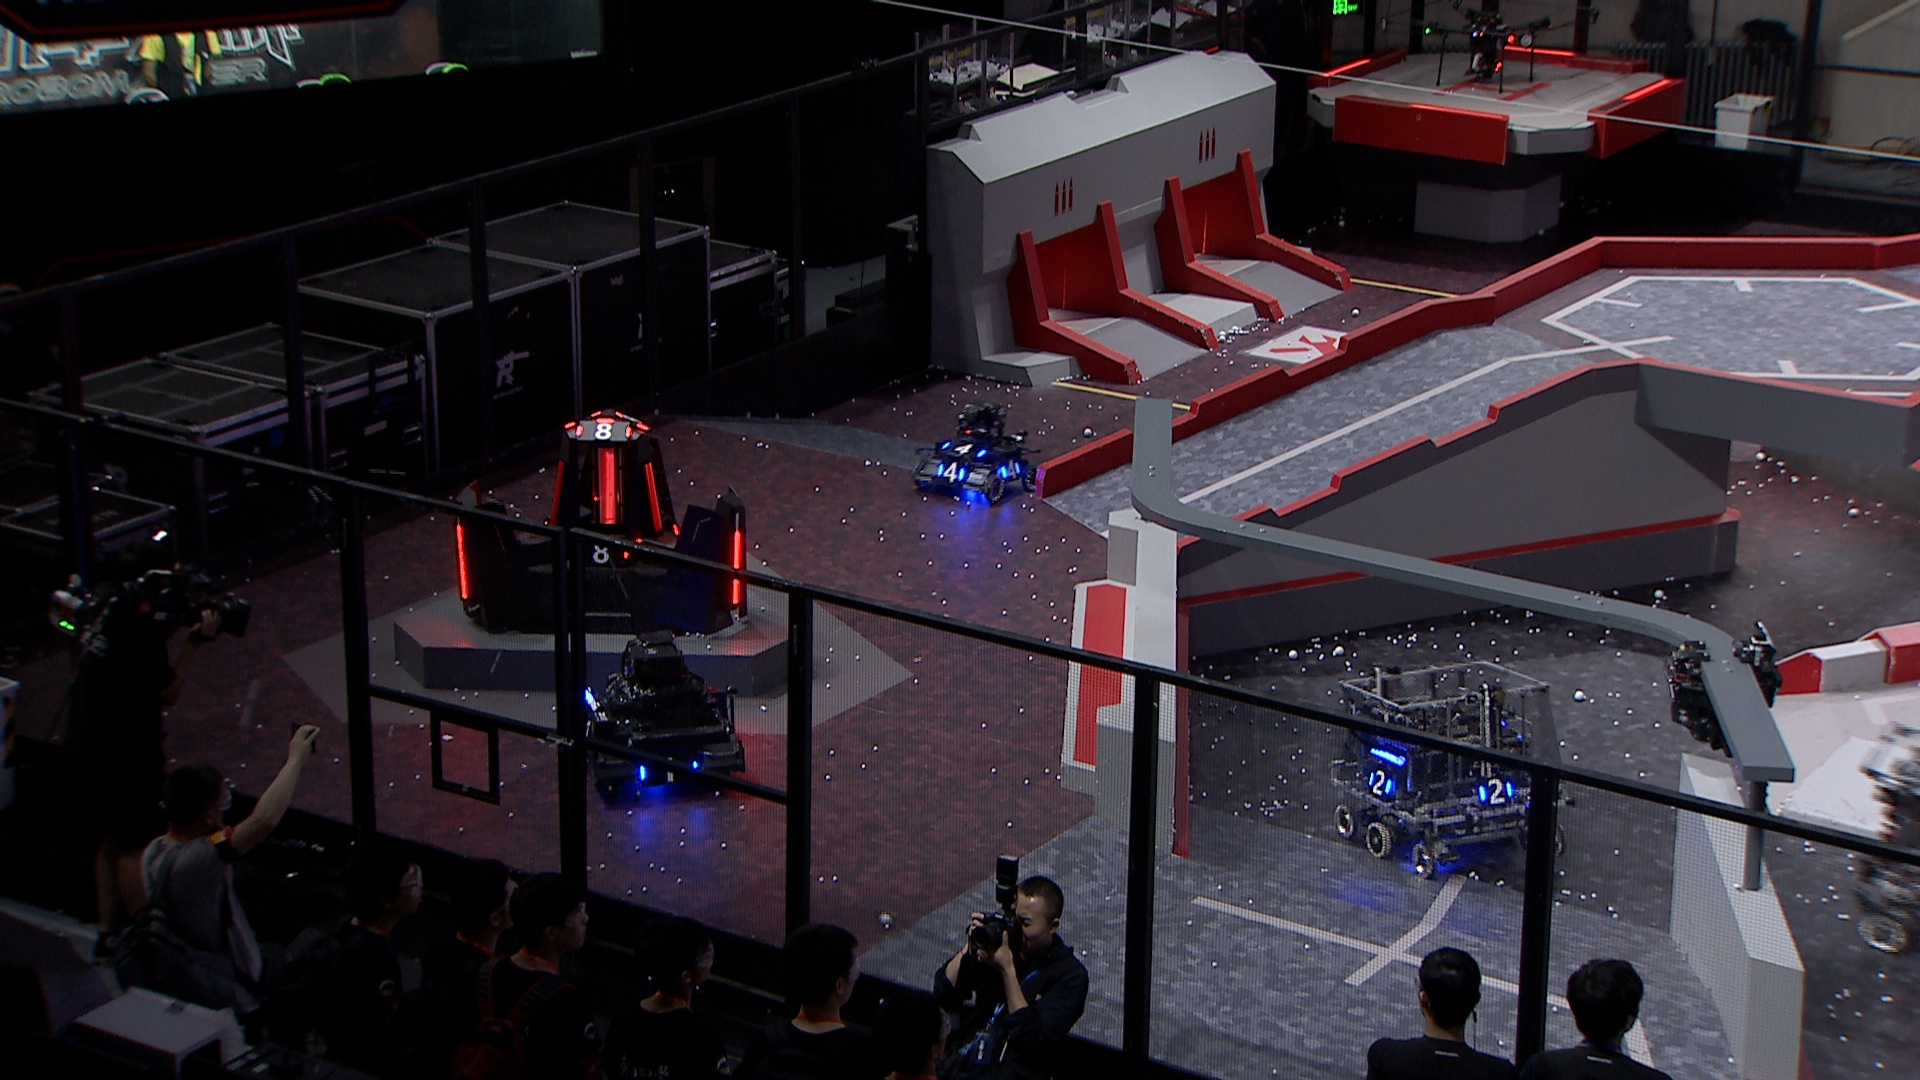armor: (633, 749, 703, 789), (593, 450, 622, 527), (541, 458, 568, 529), (578, 533, 632, 568), (727, 524, 749, 607), (641, 458, 666, 531), (452, 524, 475, 604), (571, 418, 632, 446), (935, 436, 992, 462), (1480, 775, 1516, 807), (1364, 765, 1396, 799), (575, 713, 604, 750), (997, 455, 1027, 483), (935, 462, 971, 484)
base: (448, 400, 749, 636)
car: (1331, 651, 1575, 877), (574, 628, 754, 804), (1850, 721, 1920, 953), (907, 396, 1043, 504)
watcher: (1662, 616, 1785, 757)
